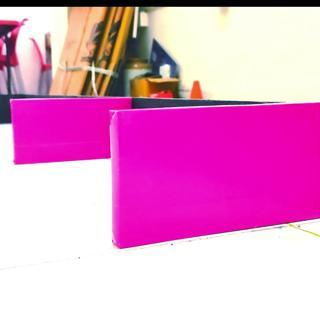xparking: (113, 106, 320, 250), (111, 111, 320, 237), (11, 98, 109, 164)
